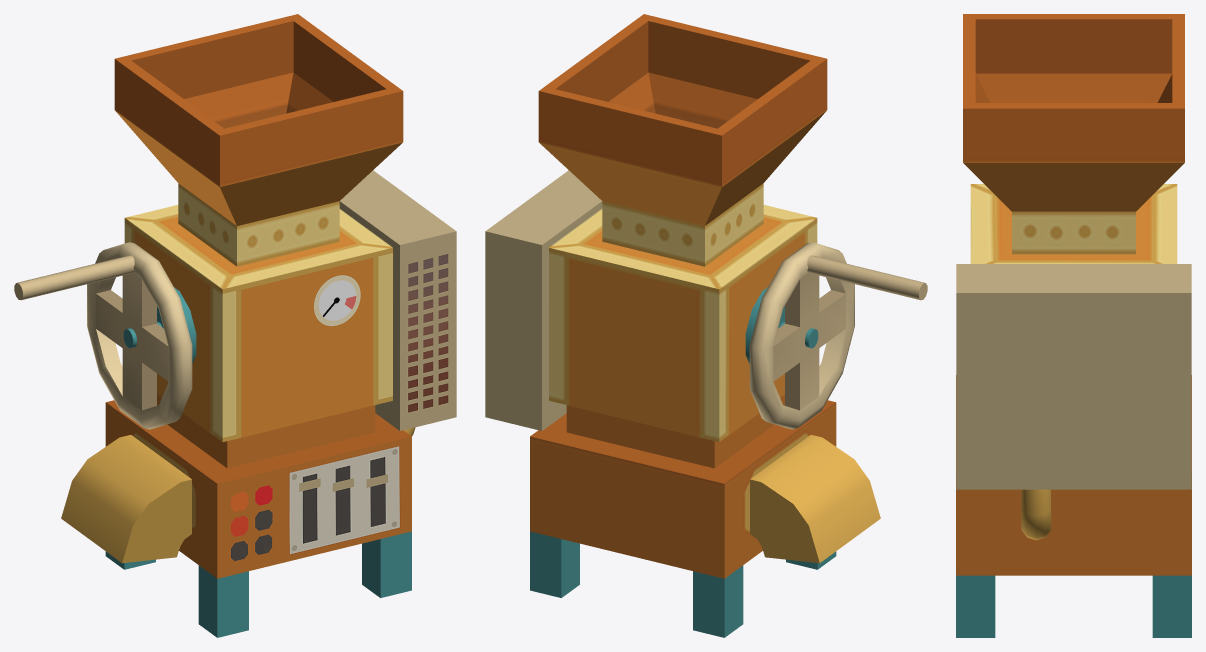
Rendered from Smelter.fbx.
The picture shows the model from 3 angles, left to right: view 1: azimuth 30°, elevation 25°; view 2: azimuth 150°, elevation 25°; view 3: azimuth 270°, elevation 25°; orthographic projection. The views are drawn at different scales.
Visible parts, largest first — view 1: smelter, crank; view 2: smelter, crank; view 3: smelter.
Part boxes in pixels (x1,y1,x2,y2): smelter: [61, 14, 456, 637]; crank: [14, 242, 196, 429]; smelter: [485, 14, 880, 637]; crank: [745, 242, 927, 429]; smelter: [956, 14, 1191, 637].
Size of the model in its own units: 3.15 by 3.93 by 1.6.
